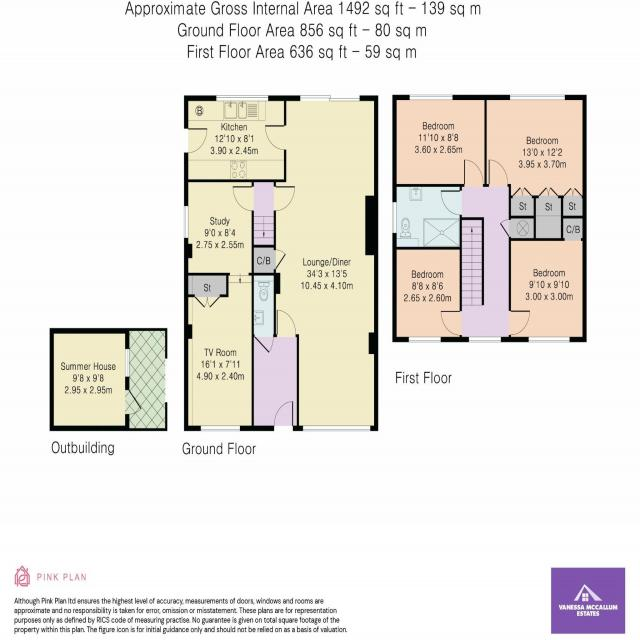DOOR: (273, 400, 294, 431), (184, 128, 208, 154), (439, 189, 462, 216), (276, 308, 297, 337), (232, 185, 254, 212), (274, 185, 296, 212), (265, 124, 287, 151), (488, 158, 508, 187), (440, 310, 462, 336), (464, 159, 484, 187), (509, 310, 530, 336)
ROOM: (183, 179, 254, 431), (484, 95, 587, 241), (509, 216, 587, 342), (184, 95, 286, 182), (392, 94, 487, 187), (392, 247, 462, 342)
SLIDING DOOR: (299, 94, 362, 102)
WINDOW: (302, 425, 371, 432), (508, 94, 566, 101), (216, 95, 269, 101), (409, 94, 453, 101), (528, 336, 570, 343), (200, 425, 240, 431), (468, 336, 502, 343), (408, 336, 442, 343), (183, 205, 189, 239), (392, 202, 397, 234)
